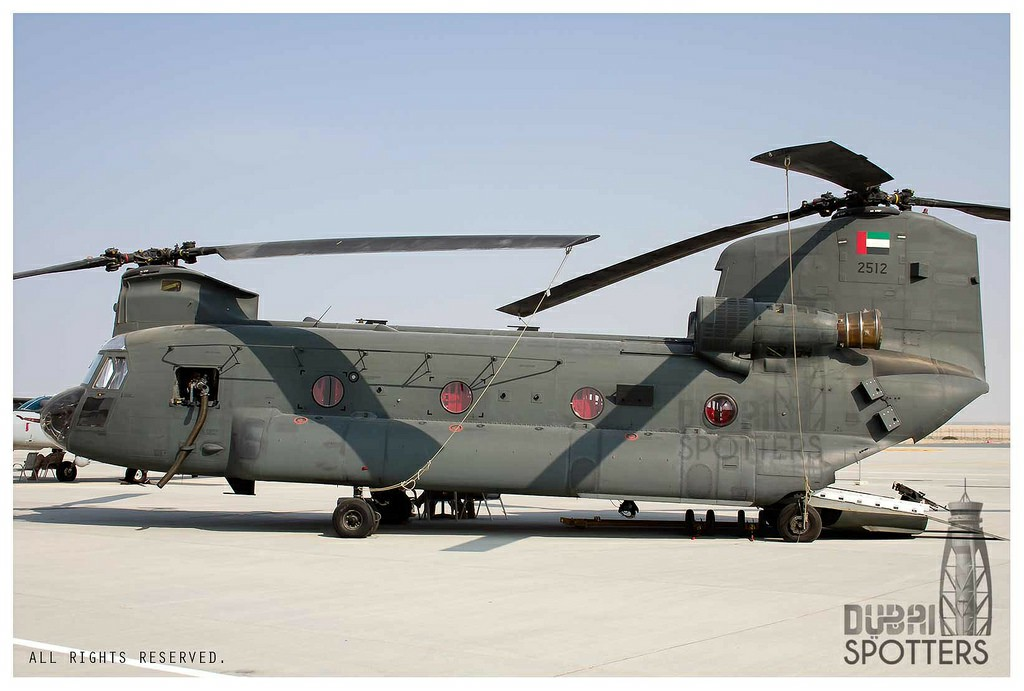chinook: (19, 138, 1003, 553)
